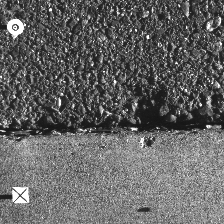circle: (7, 18, 24, 34)
crack: (1, 118, 223, 139)
square: (12, 186, 29, 204)
